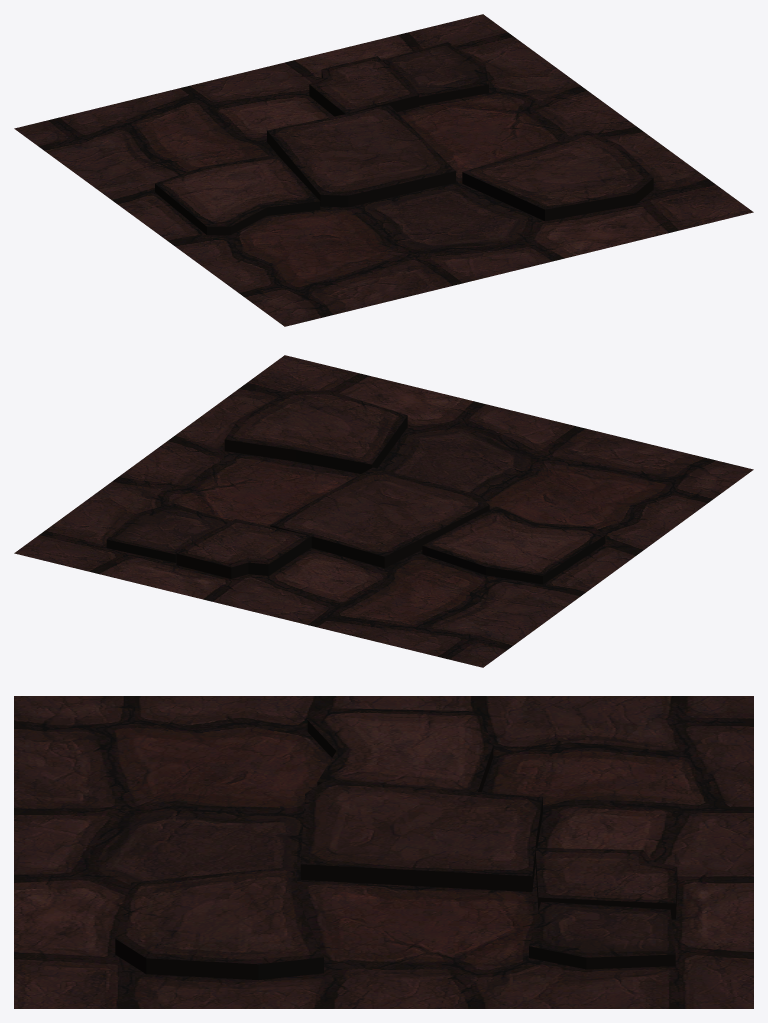
File: lava_floor_blank_06.fbx
The picture shows the model from 3 angles, top to bottom: view 1: azimuth 30°, elevation 25°; view 2: azimuth 150°, elevation 25°; view 3: azimuth 270°, elevation 25°; orthographic projection. The views are drawn at different scales.
Parts seen in each view (by area): view 1: lava_tileset/lava_floor01_shadow; view 2: lava_tileset/lava_floor01_shadow; view 3: lava_tileset/lava_floor01_shadow.
Part boxes in pixels (left/top/right/bottom): lava_tileset/lava_floor01_shadow: left=14, top=14, right=753, bottom=326; lava_tileset/lava_floor01_shadow: left=14, top=355, right=753, bottom=667; lava_tileset/lava_floor01_shadow: left=14, top=696, right=753, bottom=1008.
Bounding box in the file's own units: 4 × 0.095 × 4.
